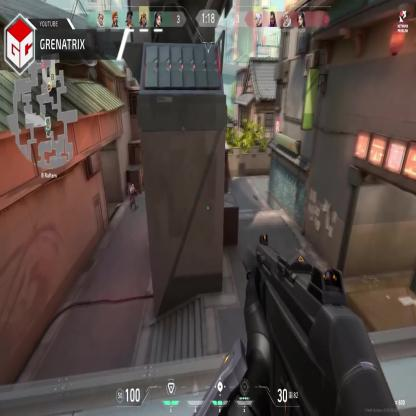enemy: (127, 182, 136, 209)
enemy_head: (131, 184, 134, 188)
